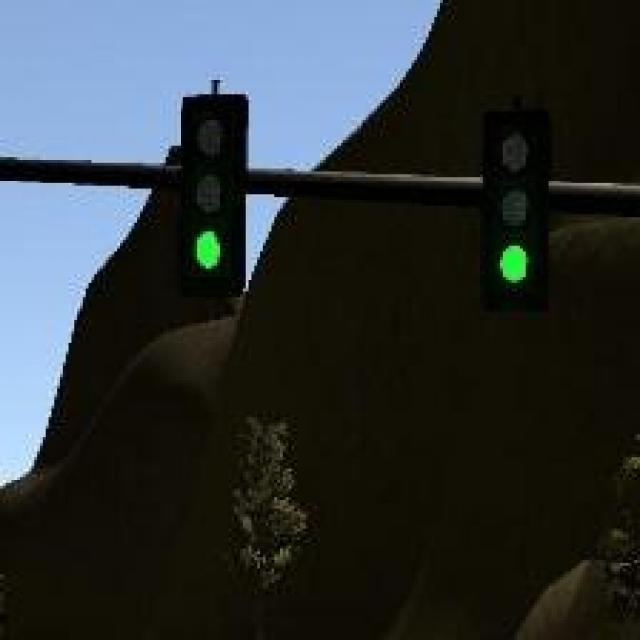green_light: (186, 95, 243, 295), (486, 120, 543, 308)
